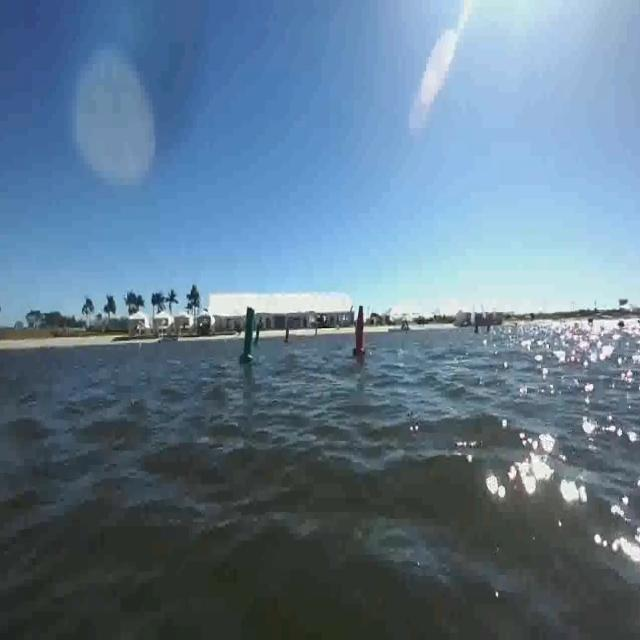green-column-buoy: (240, 306, 259, 365)
red-column-buoy: (350, 304, 368, 358)
